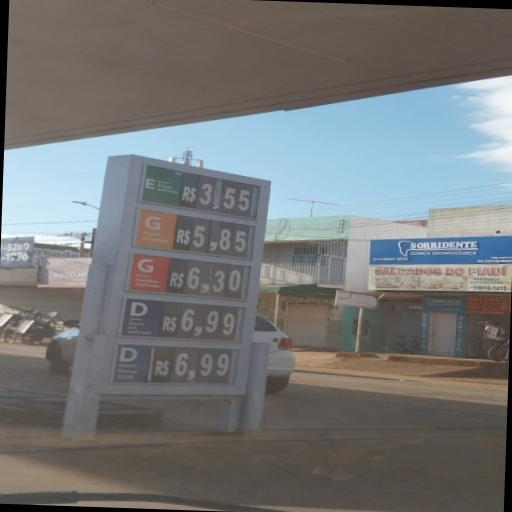ETANOL: (139, 165, 179, 204)
GASOLINA AD: (130, 253, 169, 292)
GASOLINA C: (133, 209, 176, 249)
S10: (120, 297, 163, 339)
S500: (111, 344, 153, 383)
placa: (92, 158, 267, 391)
preco: (184, 260, 246, 299), (197, 177, 258, 216), (189, 219, 250, 258), (175, 303, 238, 340), (170, 346, 233, 383)
